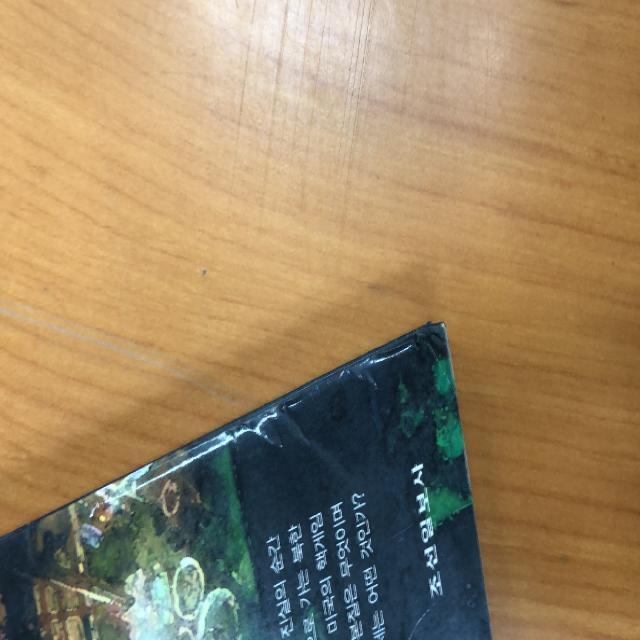Ripped: (419, 308, 451, 335)
